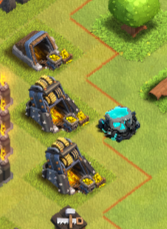gold_mine: (19, 70, 101, 141), (31, 134, 108, 196), (7, 18, 72, 74)
